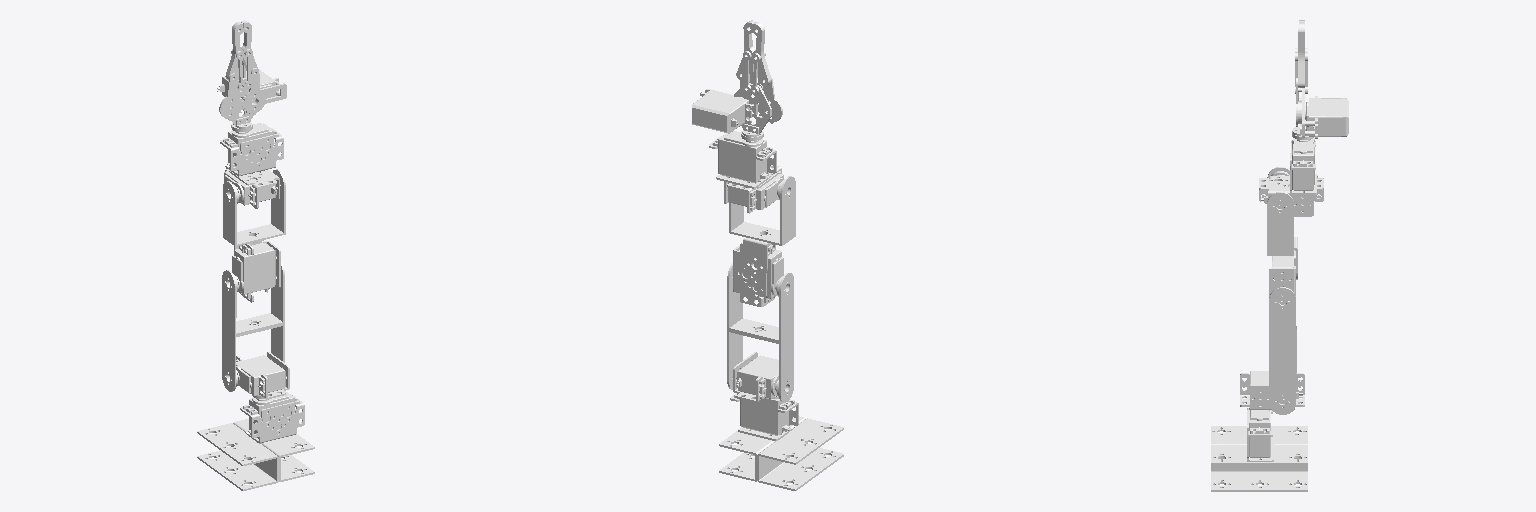
robot.urdf — Assembly_copy:
<?xml version="1.0" ?>
<robot name="Assembly_copy">
  <link name="world"/>
  <link name="base_link">
    <inertial>
      <origin rpy="0 0 0" xyz="0.001456 -0.000451 0.033102"/>
      <mass value="0.586913"/>
      <inertia ixx="0.00048" ixy="2e-06" ixz="4e-05" iyy="0.000489" iyz="-0.00013" izz="0.000415"/>
    </inertial>
    <visual>
      <origin rpy="0 0 0" xyz="0 0 0"/>
      <geometry>
        <mesh filename="package://haircut/Assembly_copy/m_bin_stl/base_link_m-binary.stl"/>
      </geometry>
      <material name="silver">
        <color rgba="193 66 66 1"/>
      </material>
    </visual>
    <collision>
      <origin rpy="0 0 0" xyz="0 0 0"/>
      <geometry>
        <mesh filename="package://haircut/Assembly_copy/m_bin_stl/base_link_m-binary.stl"/>
      </geometry>
    </collision>
  </link>
  <link name="link1_1">
    <inertial>
      <origin rpy="0 0 0" xyz="0.003466 0.011276 0.014489999999999989"/>
      <mass value="0.308814"/>
      <inertia ixx="6.3e-05" ixy="0.0" ixz="-0.000218" iyy="5.6e-05" iyz="0.000217" izz="9.3e-05"/>
    </inertial>
    <visual>
      <origin rpy="0 0 0" xyz="-0.0 -0.0 -0.0753"/>
      <geometry>
        <mesh filename="package://haircut/Assembly_copy/m_bin_stl/link1_1_m-binary.stl"/>
      </geometry>
      <material name="silver">
        <color rgba="186 175 175 1"/>
      </material>
    </visual>
    <collision>
      <origin rpy="0 0 0" xyz="-0.0 -0.0 -0.0753"/>
      <geometry>
        <mesh filename="package://haircut/Assembly_copy/m_bin_stl/link1_1_m-binary.stl"/>
      </geometry>
    </collision>
  </link>
  <link name="link2_1">
    <inertial>
      <origin rpy="0 0 0" xyz="0.020541 -0.00017900000000000207 0.05099999999999999"/>
      <mass value="0.148173"/>
      <inertia ixx="0.000163" ixy="0.0" ixz="-0.000459" iyy="0.000245" iyz="0.00046" izz="9.6e-05"/>
    </inertial>
    <visual>
      <origin rpy="0 0 0" xyz="0.021016 -0.021569 -0.090842"/>
      <geometry>
        <mesh filename="package://haircut/Assembly_copy/m_bin_stl/link2_1_m-binary.stl"/>
      </geometry>
      <material name="silver">
        <color rgba="127 191 63 1"/>
      </material>
    </visual>
    <collision>
      <origin rpy="0 0 0" xyz="0.021016 -0.021569 -0.090842"/>
      <geometry>
        <mesh filename="package://haircut/Assembly_copy/m_bin_stl/link2_1_m-binary.stl"/>
      </geometry>
    </collision>
  </link>
  <link name="link3_1">
    <inertial>
      <origin rpy="0 0 0" xyz="0.023587 0.0005360000000000018 0.022721999999999992"/>
      <mass value="0.395617"/>
      <inertia ixx="0.000329" ixy="-1e-06" ixz="-0.001638" iyy="0.0004" iyz="0.001667" izz="0.000108"/>
    </inertial>
    <visual>
      <origin rpy="0 0 0" xyz="0.021017 -0.021337 -0.192842"/>
      <geometry>
        <mesh filename="package://haircut/Assembly_copy/m_bin_stl/link3_1_m-binary.stl"/>
      </geometry>
      <material name="silver">
        <color rgba="127 63 191 1"/>
      </material>
    </visual>
    <collision>
      <origin rpy="0 0 0" xyz="0.021017 -0.021337 -0.192842"/>
      <geometry>
        <mesh filename="package://haircut/Assembly_copy/m_bin_stl/link3_1_m-binary.stl"/>
      </geometry>
    </collision>
  </link>
  <link name="link4_1">
    <inertial>
      <origin rpy="0 0 0" xyz="0.028051 0.015102999999999998 0.017232000000000025"/>
      <mass value="0.602911"/>
      <inertia ixx="0.000296" ixy="-1.1e-05" ixz="-0.005221" iyy="0.000317" iyz="0.005134" izz="0.000176"/>
    </inertial>
    <visual>
      <origin rpy="0 0 0" xyz="0.02144 -0.019377 -0.290346"/>
      <geometry>
        <mesh filename="package://haircut/Assembly_copy/m_bin_stl/link4_1_m-binary.stl"/>
      </geometry>
      <material name="silver">
        <color rgba="191 191 63 1"/>
      </material>
    </visual>
    <collision>
      <origin rpy="0 0 0" xyz="0.02144 -0.019377 -0.290346"/>
      <geometry>
        <mesh filename="package://haircut/Assembly_copy/m_bin_stl/link4_1_m-binary.stl"/>
      </geometry>
    </collision>
  </link>
  <link name="link5_1">
    <inertial>
      <origin rpy="0 0 0" xyz="0.019054 0.019068 0.027435000000000043"/>
      <mass value="0.302332"/>
      <inertia ixx="7.2e-05" ixy="-1.2e-05" ixz="-0.004618" iyy="7.8e-05" iyz="0.004606" izz="0.000108"/>
    </inertial>
    <visual>
      <origin rpy="0 0 0" xyz="4.2e-05 -0.040507 -0.348672"/>
      <geometry>
        <mesh filename="package://haircut/Assembly_copy/m_bin_stl/link5_1_m-binary.stl"/>
      </geometry>
      <material name="silver">
        <color rgba="63 127 191 1"/>
      </material>
    </visual>
    <collision>
      <origin rpy="0 0 0" xyz="4.2e-05 -0.040507 -0.348672"/>
      <geometry>
        <mesh filename="package://haircut/Assembly_copy/m_bin_stl/link5_1_m-binary.stl"/>
      </geometry>
    </collision>
  </link>
  <link name="link6_1">
    <inertial>
      <origin rpy="0 0 0" xyz="-0.010477 -0.0015929999999999972 0.03273900000000002"/>
      <mass value="0.099107"/>
      <inertia ixx="7.3e-05" ixy="-0.0" ixz="-0.001518" iyy="8.3e-05" iyz="0.001519" izz="1.1e-05"/>
    </inertial>
    <visual>
      <origin rpy="0 0 0" xyz="-0.010937 -0.039339 -0.377173"/>
      <geometry>
        <mesh filename="package://haircut/Assembly_copy/m_bin_stl/link6_1_m-binary.stl"/>
      </geometry>
      <material name="silver">
        <color rgba="191 63 63 1"/>
      </material>
    </visual>
    <collision>
      <origin rpy="0 0 0" xyz="-0.010937 -0.039339 -0.377173"/>
      <geometry>
        <mesh filename="package://haircut/Assembly_copy/m_bin_stl/link6_1_m-binary.stl"/>
      </geometry>
    </collision>
  </link>
  <joint name="base_joint" type="fixed">
    <parent link="world"/>
    <child link="base_link"/>
  </joint>
  <joint name="rev1" type="revolute">
    <origin rpy="0 0 0" xyz="0.0 0.0 0.0753"/>
    <parent link="base_link"/>
    <child link="link1_1"/>
    <axis xyz="0.0 -0.0 0.01"/>
    <limit lower="-2.5" upper="2.5" effort="100" velocity="10"/>
  </joint>
  <transmission name="rev1_tran">
    <type>transmission_interface/SimpleTransmission</type>
    <joint name="rev1">
      <hardwareInterface>hardware_interface/PositionJointInterface</hardwareInterface>
    </joint>
    <actuator name="rev1_actr">
      <hardwareInterface>hardware_interface/PositionJointInterface</hardwareInterface>
      <mechanicalReduction>1</mechanicalReduction>
    </actuator>
  </transmission>
  <joint name="rev2" type="revolute">
    <origin rpy="0 0 0" xyz="-0.021016 0.021569 0.015542"/>
    <parent link="link1_1"/>
    <child link="link2_1"/>
    <axis xyz="-0.01 3.1e-05 -0.0"/>
    <limit lower="-2.5" upper="2.5" effort="100" velocity="10"/>
  </joint>
  <transmission name="rev2_tran">
    <type>transmission_interface/SimpleTransmission</type>
    <joint name="rev2">
      <hardwareInterface>hardware_interface/PositionJointInterface</hardwareInterface>
    </joint>
    <actuator name="rev2_actr">
      <hardwareInterface>hardware_interface/PositionJointInterface</hardwareInterface>
      <mechanicalReduction>1</mechanicalReduction>
    </actuator>
  </transmission>
  <joint name="rev3" type="revolute">
    <origin rpy="0 0 0" xyz="-1e-06 -0.000232 0.102"/>
    <parent link="link2_1"/>
    <child link="link3_1"/>
    <axis xyz="-0.01 3.1e-05 -0.0"/>
    <limit lower="-2.5" upper="2.5" effort="100" velocity="10"/>
  </joint>
  <transmission name="rev3_tran">
    <type>transmission_interface/SimpleTransmission</type>
    <joint name="rev3">
      <hardwareInterface>hardware_interface/PositionJointInterface</hardwareInterface>
    </joint>
    <actuator name="rev3_actr">
      <hardwareInterface>hardware_interface/PositionJointInterface</hardwareInterface>
      <mechanicalReduction>1</mechanicalReduction>
    </actuator>
  </transmission>
  <joint name="rev4" type="revolute">
    <origin rpy="0 0 0" xyz="-0.000423 -0.00196 0.097504"/>
    <parent link="link3_1"/>
    <child link="link4_1"/>
    <axis xyz="0.01 -3.1e-05 0.0"/>
    <limit lower="-2.5" upper="2.5" effort="100" velocity="10"/>
  </joint>
  <transmission name="rev4_tran">
    <type>transmission_interface/SimpleTransmission</type>
    <joint name="rev4">
      <hardwareInterface>hardware_interface/PositionJointInterface</hardwareInterface>
    </joint>
    <actuator name="rev4_actr">
      <hardwareInterface>hardware_interface/PositionJointInterface</hardwareInterface>
      <mechanicalReduction>1</mechanicalReduction>
    </actuator>
  </transmission>
  <joint name="rev5" type="revolute">
    <origin rpy="0 0 0" xyz="0.021398 0.02113 0.058326"/>
    <parent link="link4_1"/>
    <child link="link5_1"/>
    <axis xyz="0.0 8e-06 0.01"/>
    <limit lower="-2.5" upper="2.5" effort="100" velocity="10"/>
  </joint>
  <transmission name="rev5_tran">
    <type>transmission_interface/SimpleTransmission</type>
    <joint name="rev5">
      <hardwareInterface>hardware_interface/PositionJointInterface</hardwareInterface>
    </joint>
    <actuator name="rev5_actr">
      <hardwareInterface>hardware_interface/PositionJointInterface</hardwareInterface>
      <mechanicalReduction>1</mechanicalReduction>
    </actuator>
  </transmission>
  <joint name="rev6" type="revolute">
    <origin rpy="0 0 0" xyz="0.010979 -0.001168 0.028501"/>
    <parent link="link5_1"/>
    <child link="link6_1"/>
    <axis xyz="-3.7e-05 -0.01 8e-06"/>
    <limit lower="-2.5" upper="2.5" effort="100" velocity="10"/>
  </joint>
  <transmission name="rev6_tran">
    <type>transmission_interface/SimpleTransmission</type>
    <joint name="rev6">
      <hardwareInterface>hardware_interface/PositionJointInterface</hardwareInterface>
    </joint>
    <actuator name="rev6_actr">
      <hardwareInterface>hardware_interface/PositionJointInterface</hardwareInterface>
      <mechanicalReduction>1</mechanicalReduction>
    </actuator>
  </transmission>
  <gazebo>
    <plugin name="gazebo_ros_control" filename="libgazebo_ros_control.so">
      <controlPeriod>0.001</controlPeriod>
      <robotSimType>gazebo_ros_control/DefaultRobotHWSim</robotSimType>
      <legacyModeNS>true</legacyModeNS>
    </plugin>
    <!--plugin name="joint_state_publisher" filename="libgazebo_ros_joint_state_publisher.so">
      <jointName>rev1, rev2, rev3, rev4, rev5, rev6</jointName>
      <updateRate value="50"/>
    </plugin-->
  </gazebo>
  <gazebo reference="base_link">
    <mu1 value="10.0"/>
    <mu2 value="1.0"/>
    <kp value="10000000.0"/>
    <kd value="1.0"/>
    <fdir1 value="1 0 0"/>
    <material>Gazebo/Black</material>
    <turnGravityOff>false</turnGravityOff>
  </gazebo>
  <gazebo reference="link1_1">
    <mu1 value="10.0"/>
    <mu2 value="1.0"/>
    <kp value="10000000.0"/>
    <kd value="1.0"/>
    <fdir1 value="1 0 0"/>
    <material>Gazebo/Black</material>
    <turnGravityOff>false</turnGravityOff>
  </gazebo>
  <gazebo reference="link2_1">
    <mu1 value="10.0"/>
    <mu2 value="1.0"/>
    <kp value="10000000.0"/>
    <kd value="1.0"/>
    <fdir1 value="1 0 0"/>
    <material>Gazebo/Black</material>
    <turnGravityOff>false</turnGravityOff>
  </gazebo>
  <gazebo reference="link3_1">
    <mu1 value="10.0"/>
    <mu2 value="1.0"/>
    <kp value="10000000.0"/>
    <kd value="1.0"/>
    <fdir1 value="1 0 0"/>
    <material>Gazebo/Black</material>
    <turnGravityOff>false</turnGravityOff>
  </gazebo>
  <gazebo reference="link4_1">
    <mu1 value="10.0"/>
    <mu2 value="1.0"/>
    <kp value="10000000.0"/>
    <kd value="1.0"/>
    <fdir1 value="1 0 0"/>
    <material>Gazebo/Black</material>
    <turnGravityOff>false</turnGravityOff>
  </gazebo>
  <gazebo reference="link5_1">
    <mu1 value="10.0"/>
    <mu2 value="1.0"/>
    <kp value="10000000.0"/>
    <kd value="1.0"/>
    <fdir1 value="1 0 0"/>
    <material>Gazebo/Black</material>
    <turnGravityOff>false</turnGravityOff>
  </gazebo>
  <gazebo reference="link6_1">
    <mu1 value="10.0"/>
    <mu2 value="1.0"/>
    <kp value="10000000.0"/>
    <kd value="1.0"/>
    <fdir1 value="1 0 0"/>
    <material>Gazebo/Black</material>
    <turnGravityOff>false</turnGravityOff>
  </gazebo>
</robot>

--- What the picture shows (computed from the rendered views, not written in the file) ---
The picture shows the robot from 3 angles, left to right: view 1: azimuth 30°, elevation 25°; view 2: azimuth 150°, elevation 25°; view 3: azimuth 270°, elevation 25°; orthographic projection.
Robot: Assembly_copy — 8 links, 7 joints (6 revolute, 1 fixed); root link world; default pose: all joints at 0.
Visible links, largest first — view 1: base_link, link3_1, link4_1, link2_1, link6_1, link1_1, link5_1; view 2: base_link, link3_1, link4_1, link2_1, link5_1, link6_1, link1_1; view 3: base_link, link2_1, link3_1, link4_1, link5_1, link1_1, link6_1.
Boxes of the visible links, <box> form: base_link: <box>197,391,314,490</box>; link3_1: <box>223,169,285,302</box>; link4_1: <box>220,123,283,208</box>; link2_1: <box>222,262,284,391</box>; link6_1: <box>219,20,265,120</box>; link1_1: <box>236,352,289,398</box>; link5_1: <box>217,69,286,131</box>; base_link: <box>719,393,843,490</box>; link3_1: <box>729,176,795,306</box>; link4_1: <box>709,131,783,213</box>; link2_1: <box>727,263,793,402</box>; link5_1: <box>692,83,771,140</box>; link6_1: <box>736,20,782,123</box>; link1_1: <box>733,352,778,402</box>; base_link: <box>1211,407,1307,491</box>; link2_1: <box>1269,287,1296,414</box>; link3_1: <box>1267,167,1297,307</box>; link4_1: <box>1259,137,1323,216</box>; link5_1: <box>1292,88,1348,139</box>; link1_1: <box>1240,371,1304,409</box>; link6_1: <box>1295,20,1307,126</box>.
Size in the robot's own frame: 0.0986 by 0.1276 by 0.4641 metres.
Meshes: 7 distinct files referenced, 7 mesh visuals loaded (7 binary STL).